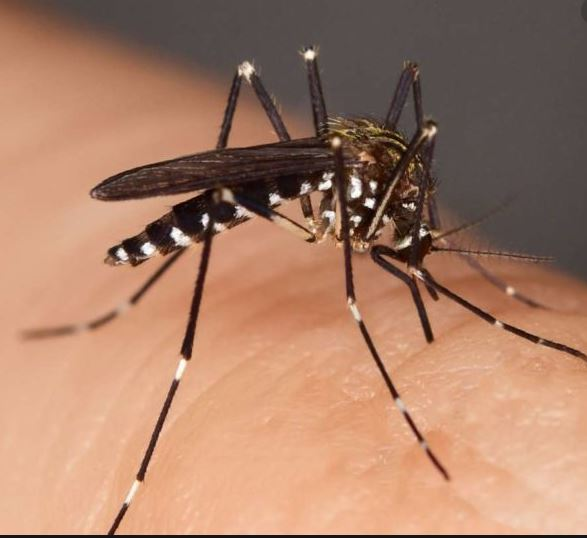dengue_mosquito: (66, 43, 585, 361)
